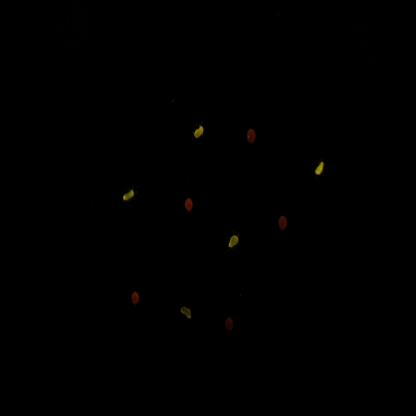PS: (241, 114, 265, 157), (275, 203, 296, 241), (180, 188, 201, 225), (220, 309, 238, 342), (130, 281, 146, 316)
PVC: (116, 169, 144, 226), (220, 219, 248, 262), (188, 112, 212, 155), (310, 151, 332, 187), (177, 296, 198, 329)
